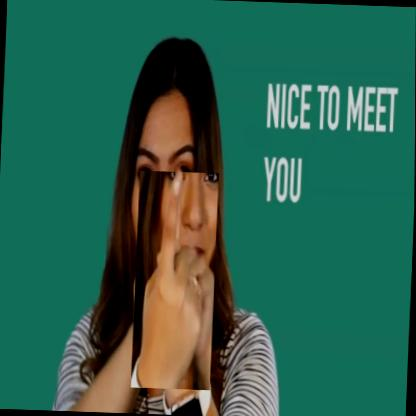NiceToMeetYou: (131, 170, 220, 390)
